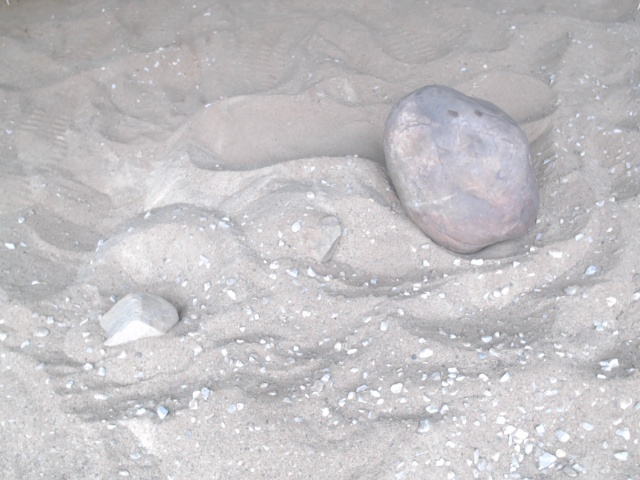rock: (379, 79, 544, 263), (96, 288, 185, 351), (306, 209, 348, 268)
